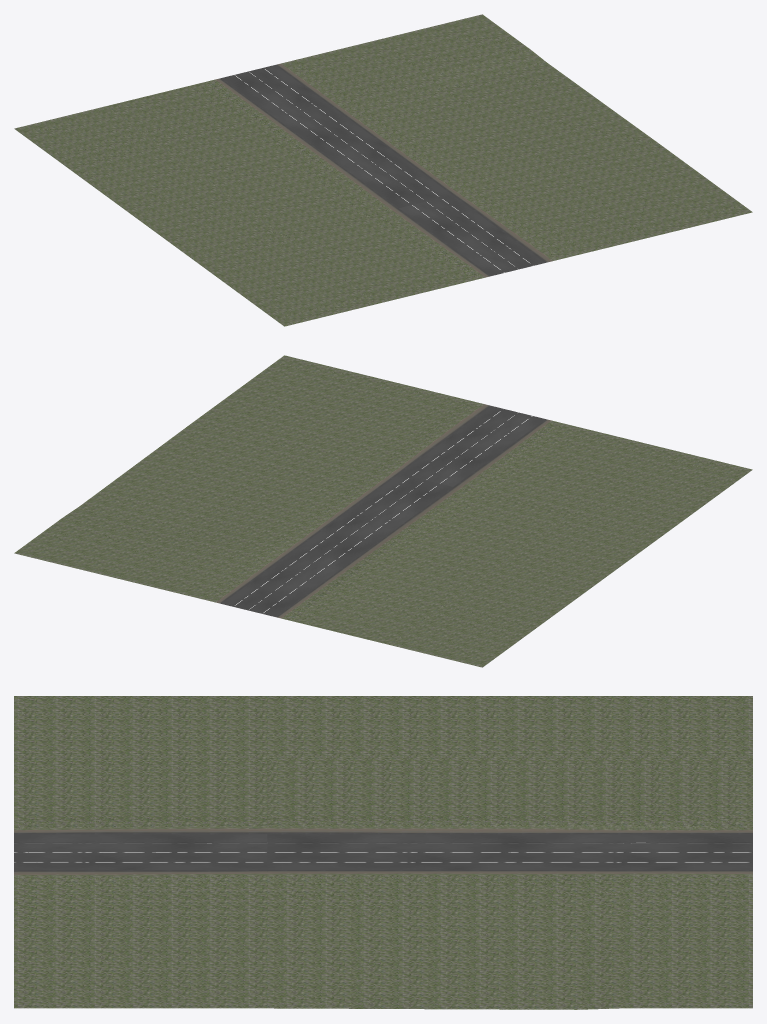
The model's file is road3.FBX.
3 views of the same model, one above another, from view 1: azimuth 30°, elevation 25°; view 2: azimuth 150°, elevation 25°; view 3: azimuth 270°, elevation 25° (orthographic). The views are drawn at different scales.
Visible parts, largest first — view 1: road; view 2: road; view 3: road.
Part boxes in pixels (<box>): road: <box>14,14,752,326</box>; road: <box>14,355,752,667</box>; road: <box>14,696,752,1009</box>.
Bounding box in the file's own units: 12000 × 54.56 × 12000.
